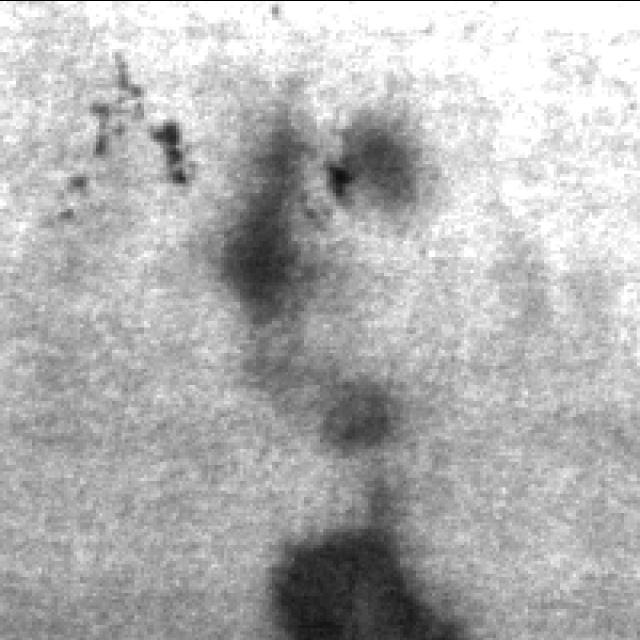patches: (200, 75, 318, 333), (262, 514, 458, 640), (278, 352, 414, 478), (330, 98, 418, 241), (134, 90, 196, 208)
